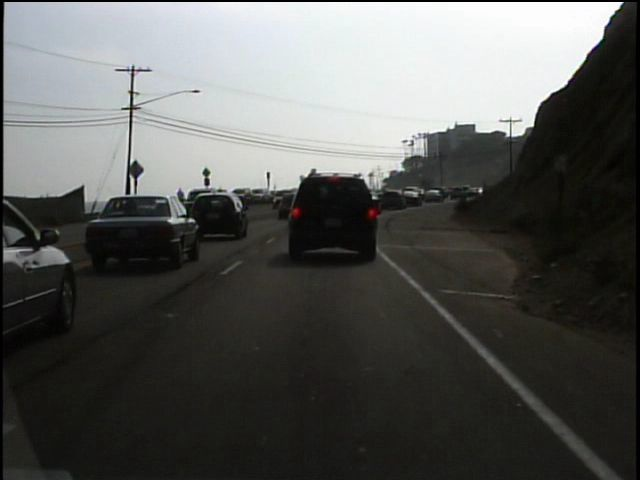person: (174, 183, 188, 212)
